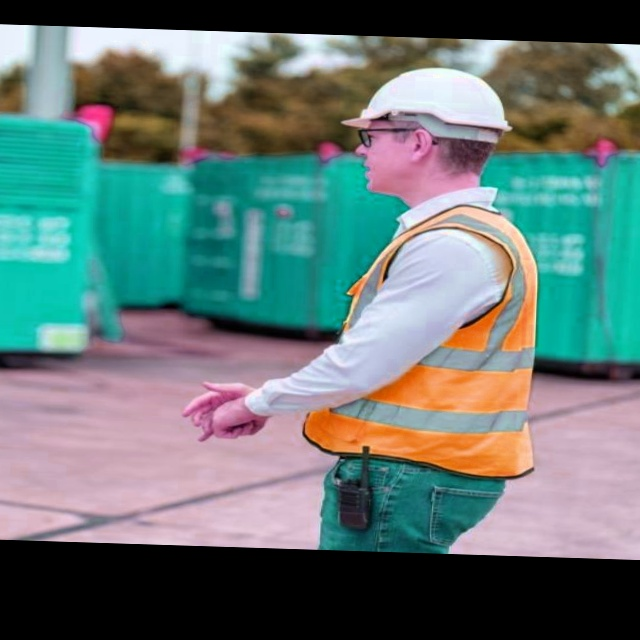Con_Casco: (340, 60, 512, 199)
Con_Chaleco: (296, 204, 562, 460)
